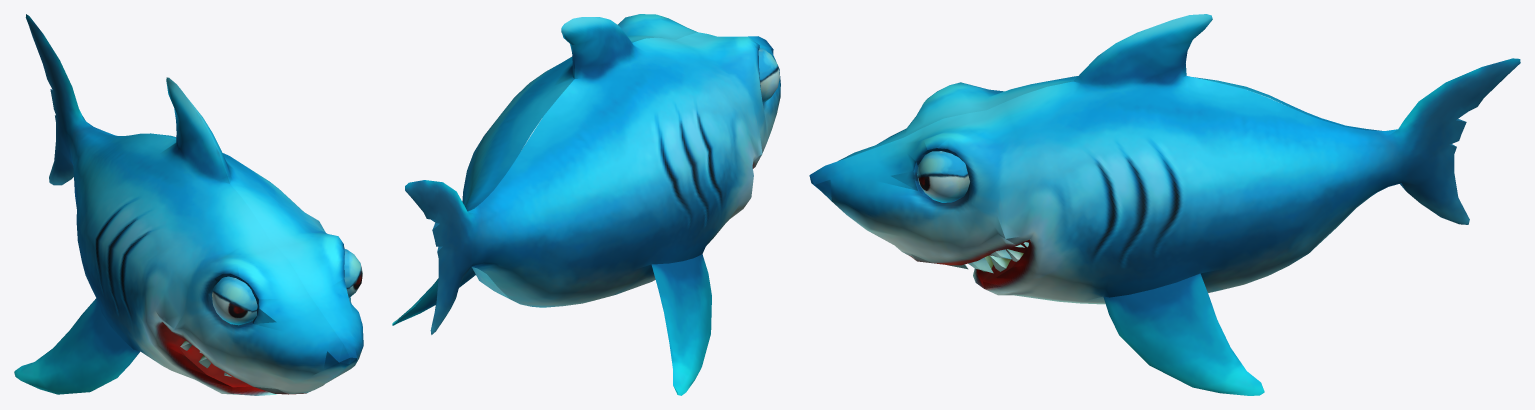
3 views of the same model, side by side, from view 1: azimuth 30°, elevation 25°; view 2: azimuth 150°, elevation 25°; view 3: azimuth 270°, elevation 25° (orthographic). The views are drawn at different scales.
Visible parts, largest first — view 1: shark_0; view 2: shark_0; view 3: shark_0.
Boxes of the visible parts, <box> form: shark_0: <box>14,14,363,395</box>; shark_0: <box>392,14,780,395</box>; shark_0: <box>809,14,1520,395</box>.
Size of the model in its own units: 0.0645 by 0.0681 by 0.1401.
1 material, 1 textured.
